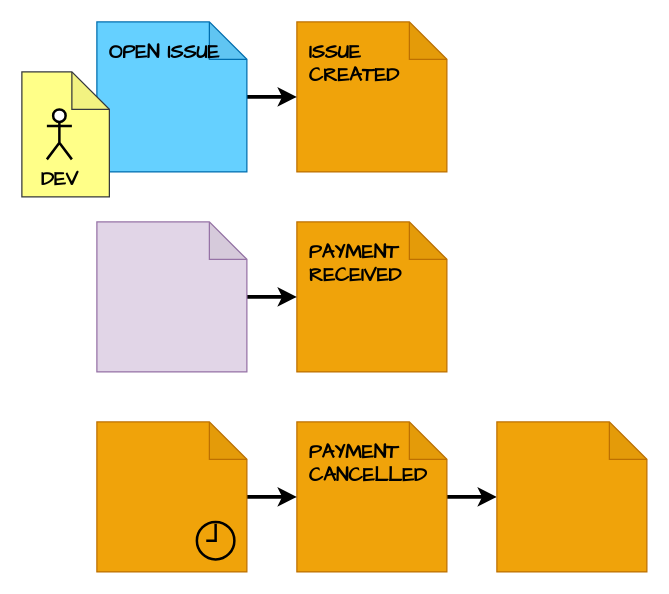
The diagram is 669 pixels wide and 594 high, and some of its shapes have lost their labels. Here are the shapes that lost their labels. From the top down, the box of each, then its label:
(96, 221, 247, 372): PAYPAL
(96, 421, 247, 572): PAYMENT WINDOW EXPIRED
(496, 421, 647, 572): ORDER CANCELLED
